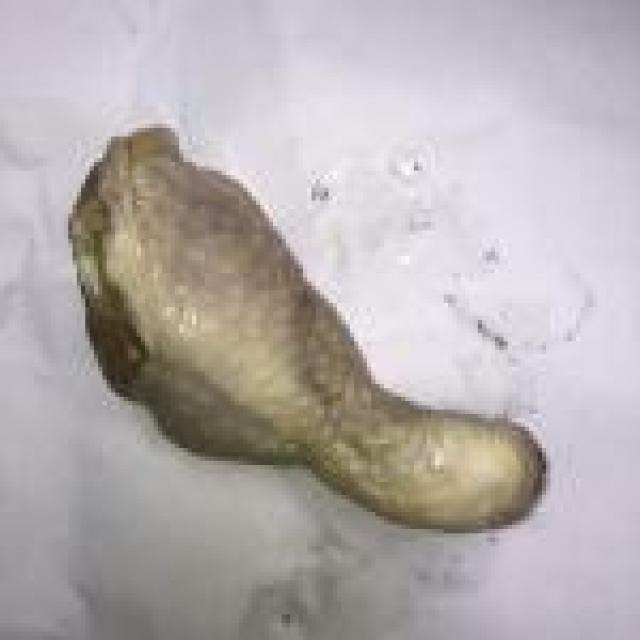leg: (78, 105, 554, 538)
